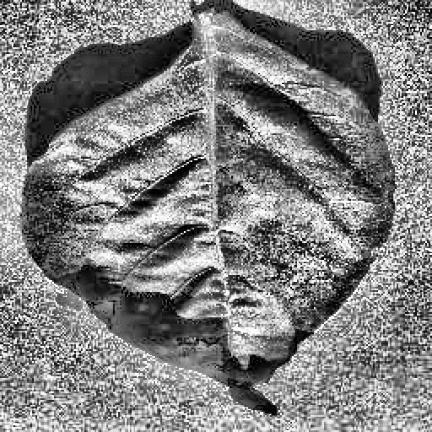leaf: (24, 9, 393, 418)
